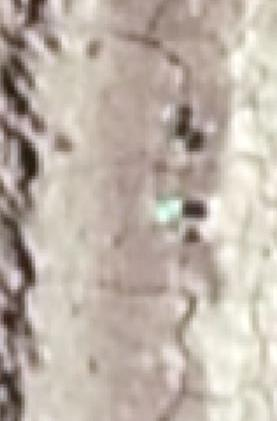cotton: (157, 198, 182, 221)
